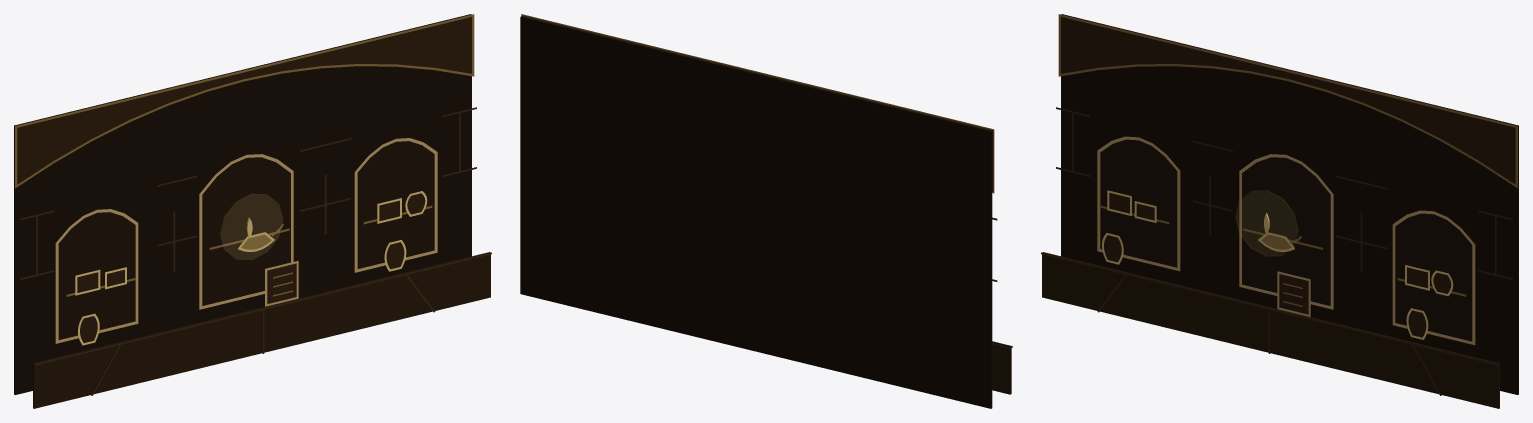
Rendered from loc-kripta-kazny.glb.
3 renders of one model, left to right at view 1: azimuth 30°, elevation 25°; view 2: azimuth 150°, elevation 25°; view 3: azimuth 330°, elevation 25°, orthographic. The views are drawn at different scales.
Visible parts, largest first — view 1: loc-kripta-kazny; view 2: loc-kripta-kazny; view 3: loc-kripta-kazny.
Part boxes in pixels (left/top/right/bottom): loc-kripta-kazny: left=14, top=14, right=491, bottom=408; loc-kripta-kazny: left=520, top=14, right=1012, bottom=408; loc-kripta-kazny: left=1041, top=14, right=1518, bottom=408.
Size of the model in its own units: 5.36 by 3.02 by 0.421.
